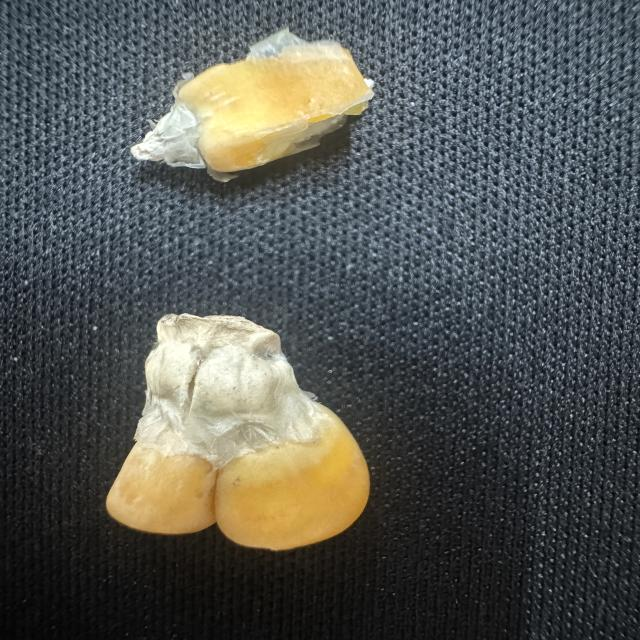Bad-Seed: (96, 300, 382, 572), (117, 24, 377, 202)
